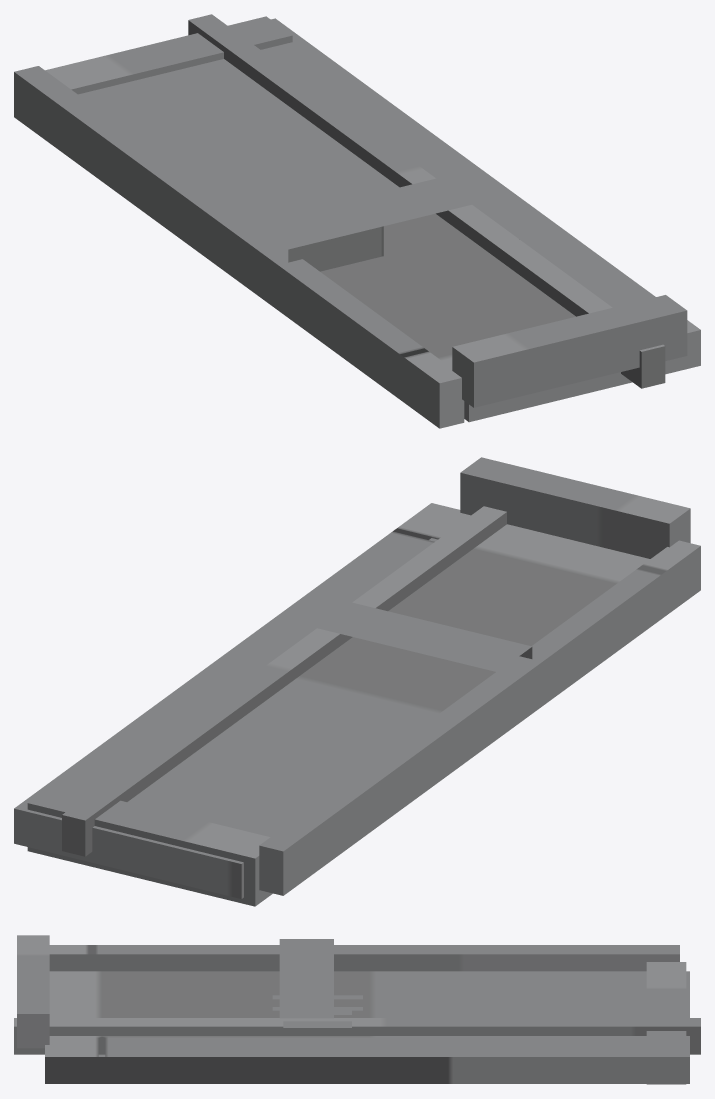
The picture shows the model from 3 angles, top to bottom: view 1: azimuth 30°, elevation 25°; view 2: azimuth 150°, elevation 25°; view 3: azimuth 270°, elevation 25°; orthographic projection. The views are drawn at different scales.
Size of the model in its own units: 0.7007 by 0.2236 by 2.05.
